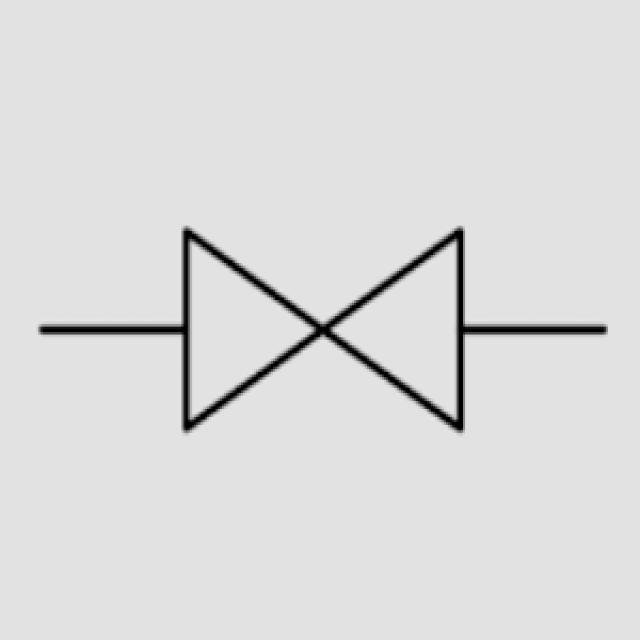Gate Valve: (119, 165, 518, 473)
